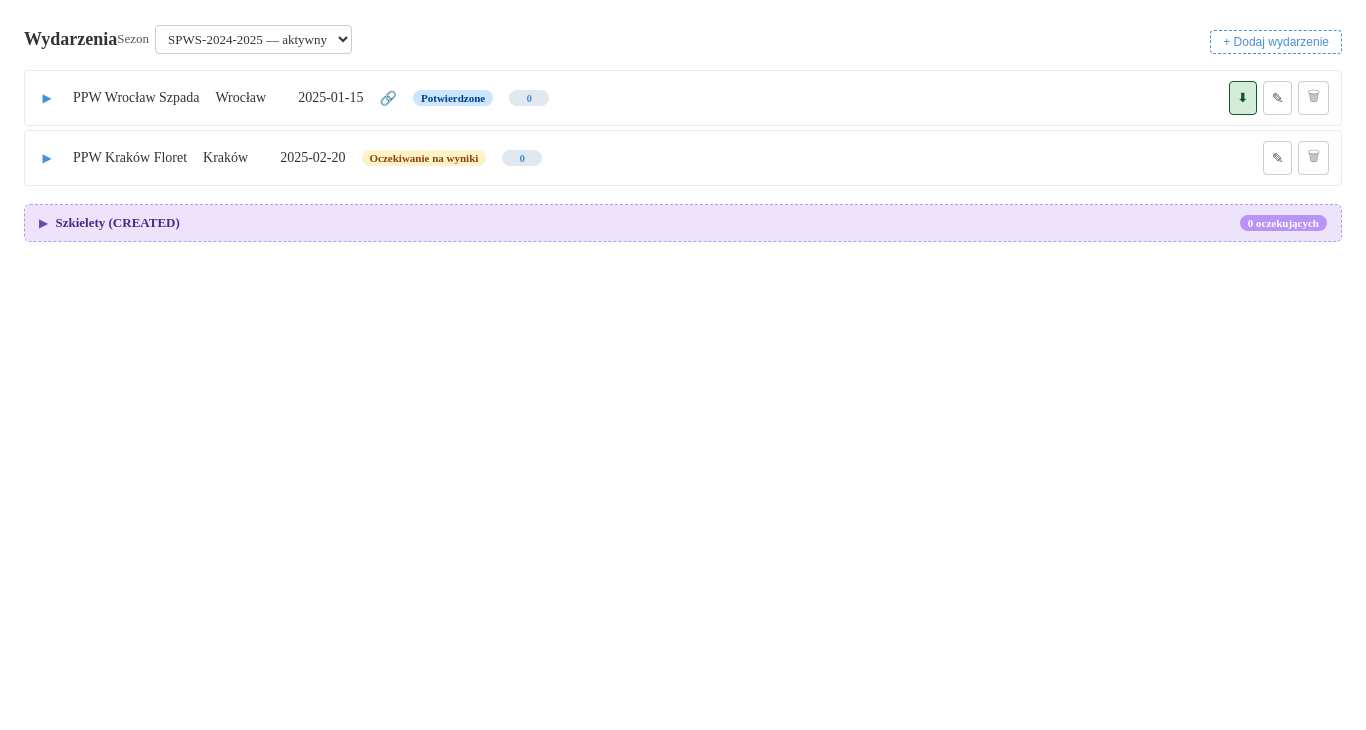
Test case: EventManager (T9.3) › edit form pre-fills existing event values
Click the button "✎" in the row of "Potwierdzone" at (1277, 98), box left=1263, top=81, right=1292, bottom=115
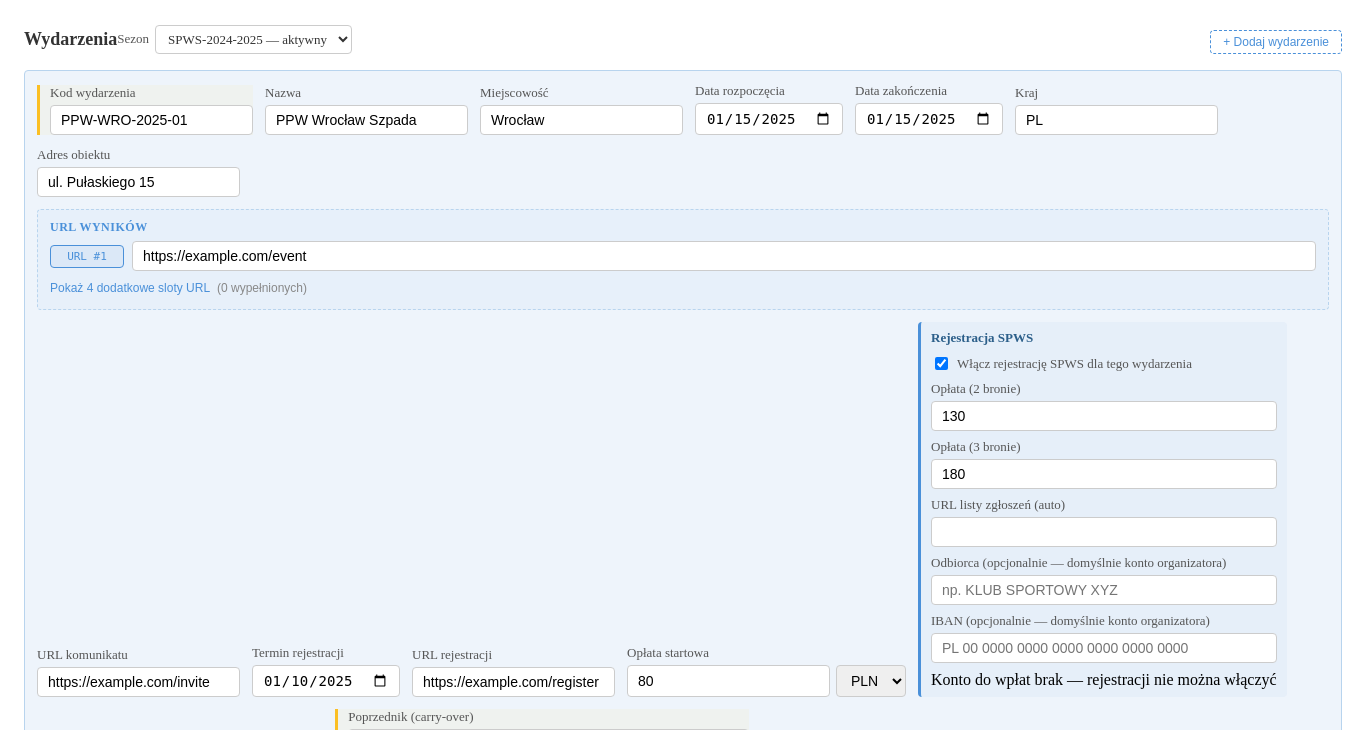
Now the field labelled "Nazwa" holds "PPW Wrocław Szpada", box left=265, top=105, right=468, bottom=135
Now the field labelled "Miejscowość" holds "Wrocław", box left=480, top=105, right=683, bottom=135
Now the field labelled "Kraj" holds "PL", box left=1015, top=105, right=1218, bottom=135
